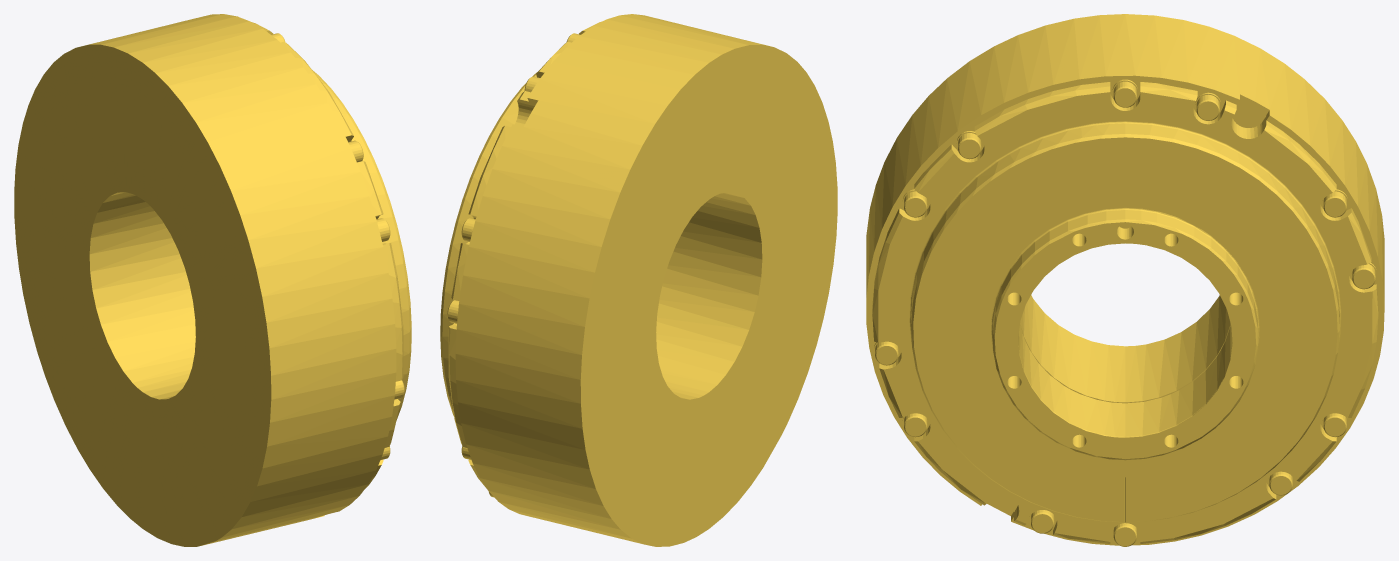
File: t_axis.dae
The picture shows the model from 3 angles, left to right: view 1: azimuth 30°, elevation 25°; view 2: azimuth 150°, elevation 25°; view 3: azimuth 270°, elevation 25°; orthographic projection.
Parts seen in each view (by area): view 1: T_Axis; view 2: T_Axis; view 3: T_Axis.
Boxes of the visible parts, x1=… form: T_Axis: x1=14, y1=14, x2=411, y2=546; T_Axis: x1=440, y1=14, x2=837, y2=546; T_Axis: x1=866, y1=14, x2=1384, y2=546.
Bounding box in the file's own units: 0.0505 × 0.1209 × 0.121.
